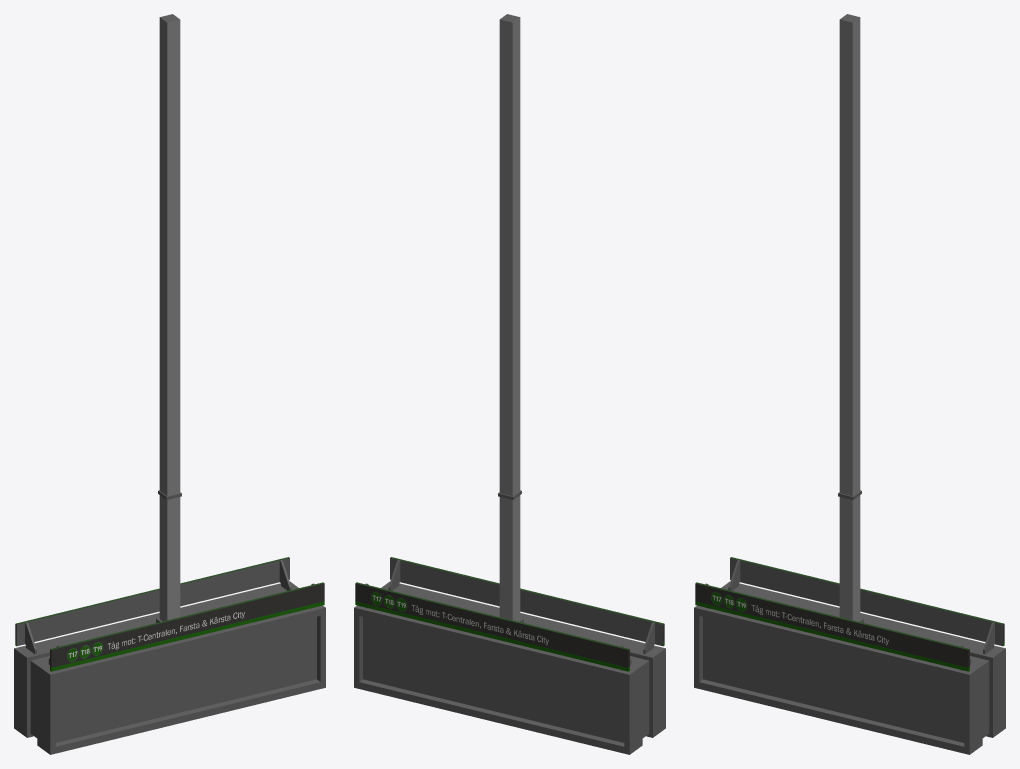
The model's file is avgongstavla.fbx.
3 renders of one model, left to right at view 1: azimuth 30°, elevation 25°; view 2: azimuth 150°, elevation 25°; view 3: azimuth 330°, elevation 25°, orthographic.
Parts seen in each view (by area): view 1: avgongstavla1; view 2: avgongstavla1; view 3: avgongstavla1.
Part boxes in pixels (bbox=[...]): avgongstavla1: bbox=[14, 14, 325, 754]; avgongstavla1: bbox=[354, 14, 665, 754]; avgongstavla1: bbox=[694, 14, 1005, 754].
Bounding box in the file's own units: 18 × 43.06 × 4.1.
4 materials, 1 textured.
